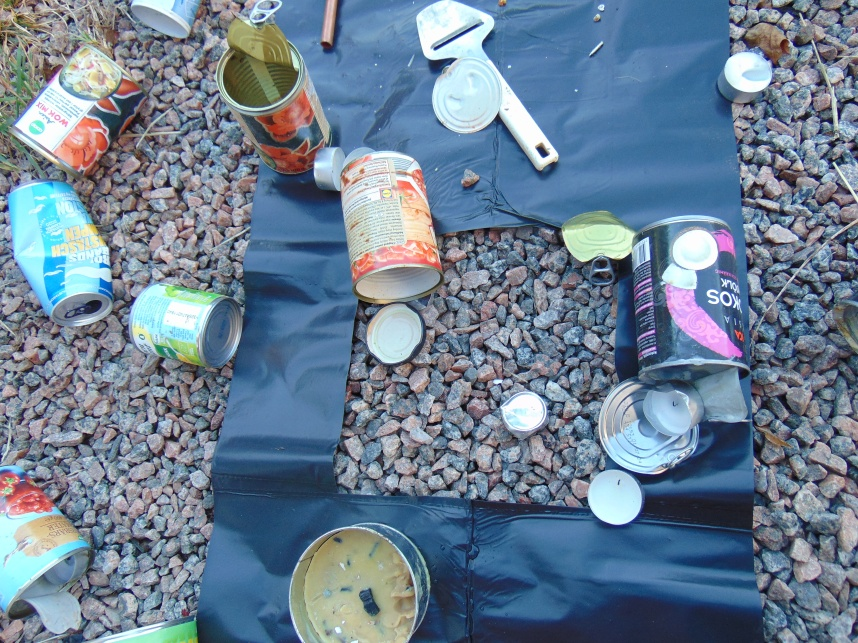metal: (598, 378, 700, 473), (561, 209, 638, 289), (432, 53, 501, 133), (415, 1, 497, 64), (363, 300, 427, 364), (586, 467, 645, 527), (226, 1, 294, 52), (646, 382, 704, 441), (700, 369, 758, 428), (717, 50, 774, 106), (498, 391, 550, 439), (313, 141, 350, 194), (322, 1, 338, 50)
metal_can: (631, 214, 755, 386), (10, 43, 151, 177), (286, 520, 433, 643), (215, 34, 335, 177), (4, 182, 112, 326), (342, 151, 444, 301), (1, 465, 94, 618), (128, 282, 241, 370), (77, 612, 202, 643), (123, 1, 202, 41)
